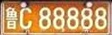C: (20, 8, 32, 32)
